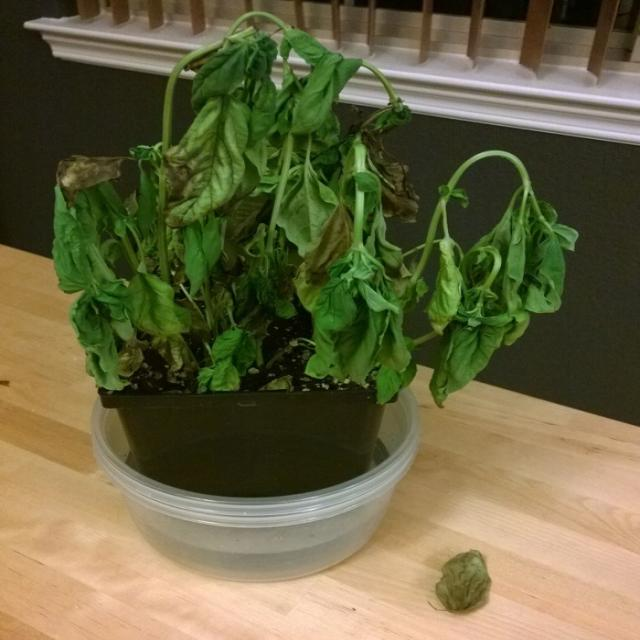unhealthy: (26, 22, 588, 404)
